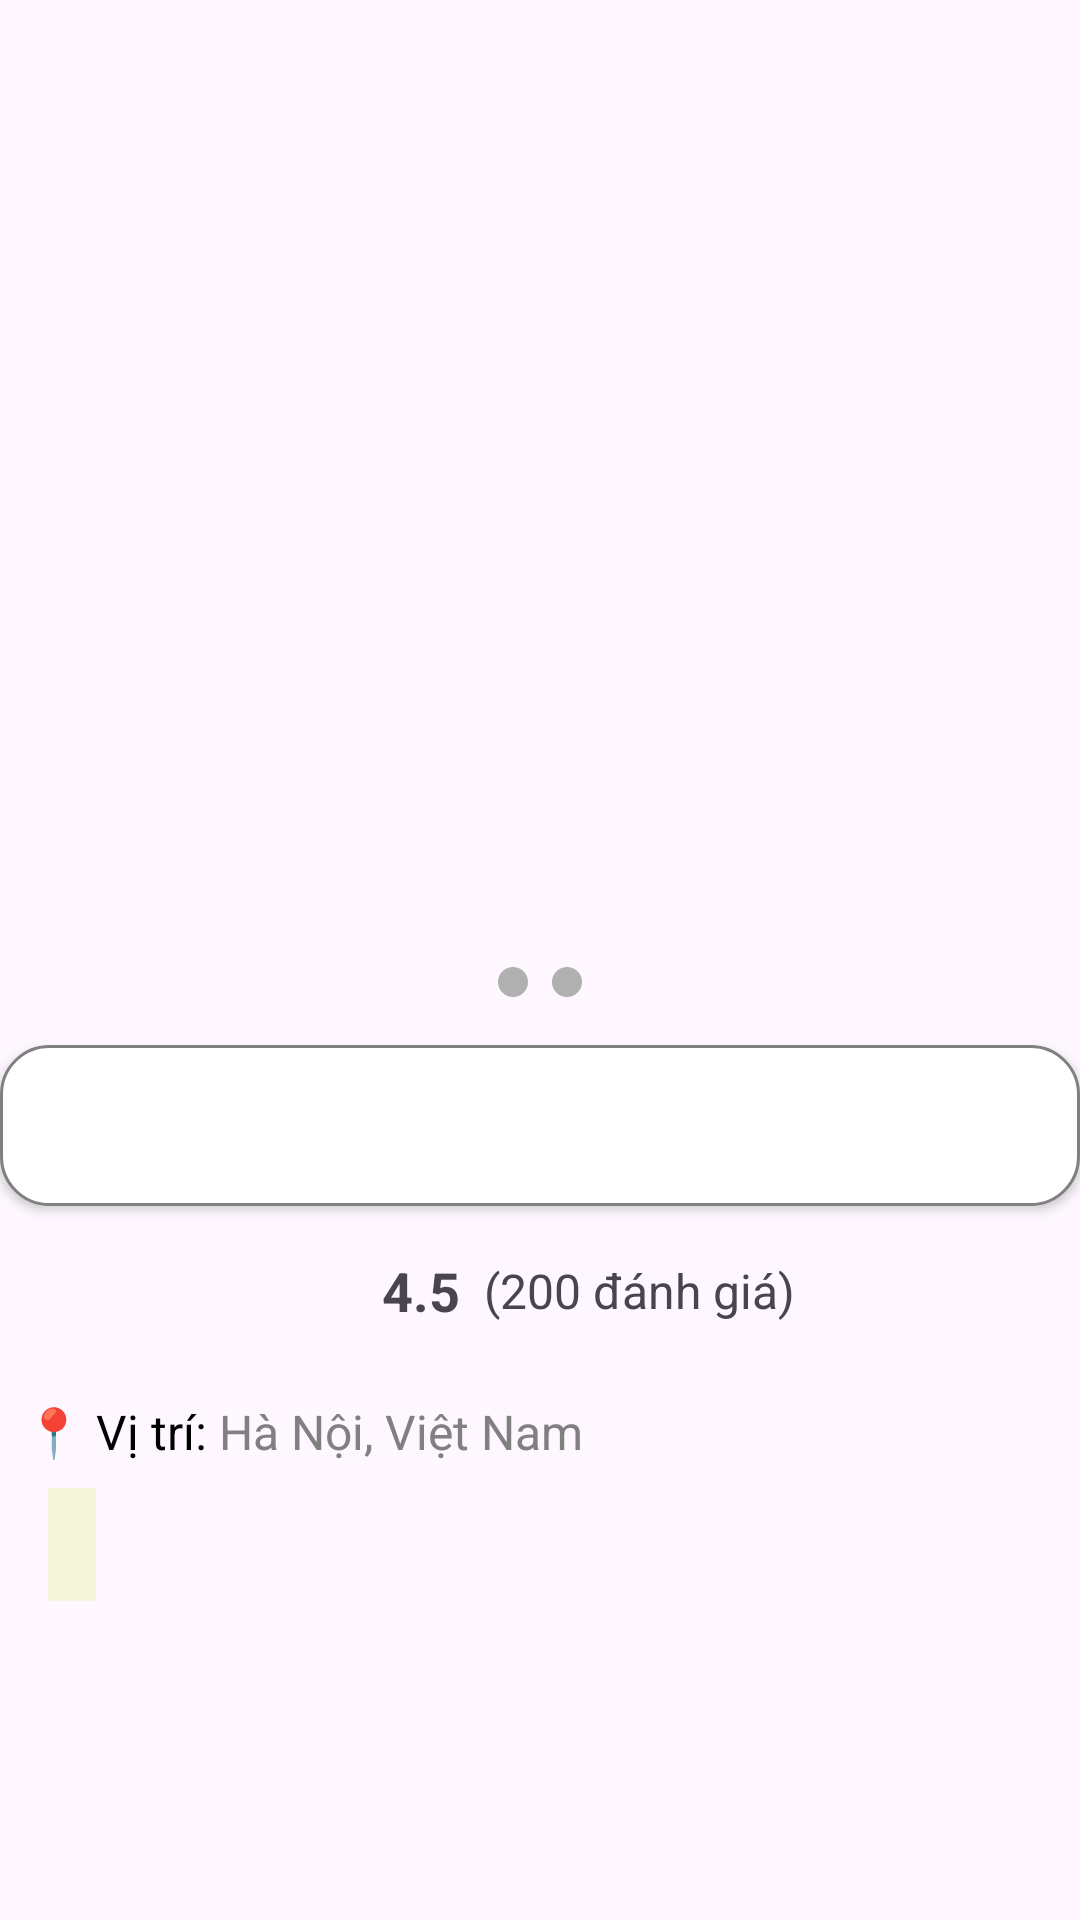

Screen size 1080w x 1920h. Icon name, then its box in pixels as bbox(x1, y1, x2, y2):
dot: bbox(498, 967, 528, 997), bbox(552, 967, 582, 997)
